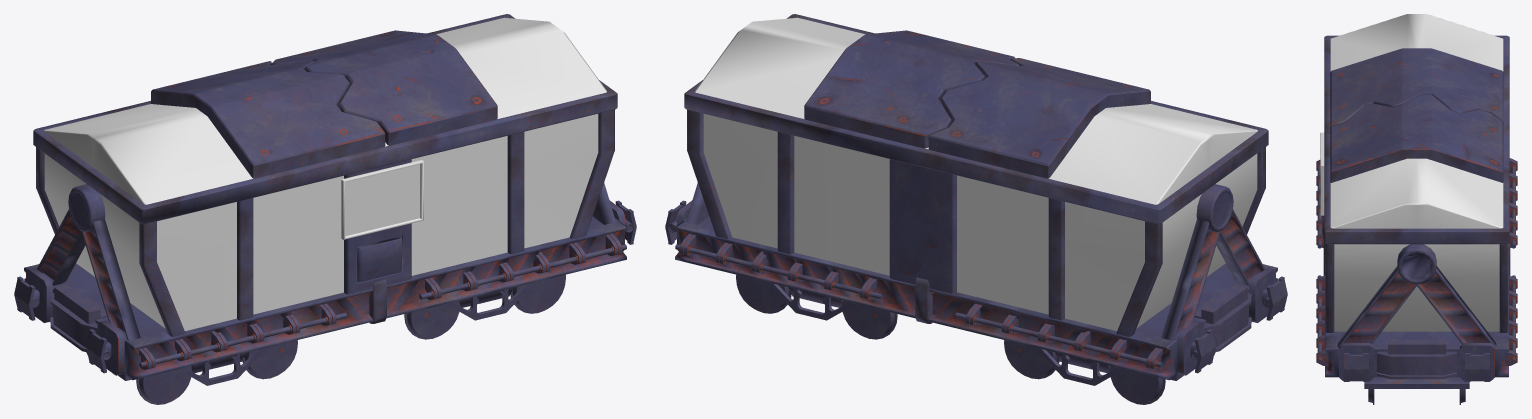
File: Loco_Carriage.fbx
3 views of the same model, side by side, from view 1: azimuth 30°, elevation 25°; view 2: azimuth 150°, elevation 25°; view 3: azimuth 270°, elevation 25° (orthographic). The views are drawn at different scales.
Parts seen in each view (by area): view 1: Cube.078, Cube.077, Loco_Balca_B_low.004, Loco_Deck, Loco_Balca_B_low.003, Loco_Ears_low.002, Loco_Platform.003, Plane, Loco_Door; view 2: Cube.078, Cube.077, Loco_Balca_B_low.004, Loco_Balka_A_low.002, Loco_Balca_B_low.003, Loco_Ears_low.002, Loco_Platform.003, Plane; view 3: Cube.078, Cube.077, Loco_Balca_B_low.004, Loco_Ears_low.002, Loco_Balca_B_low.003, Plane, Loco_Platform.003, Loco_Deck.
Boxes of the visible parts, <box> form: Cube.078: <box>24,14,626,380</box>; Cube.077: <box>151,30,497,165</box>; Loco_Balca_B_low.004: <box>14,200,636,404</box>; Loco_Deck: <box>341,160,423,239</box>; Loco_Balca_B_low.003: <box>36,109,614,336</box>; Loco_Ears_low.002: <box>139,233,622,369</box>; Loco_Platform.003: <box>24,244,626,367</box>; Plane: <box>42,216,618,373</box>; Loco_Door: <box>357,237,402,281</box>; Cube.078: <box>675,14,1277,380</box>; Cube.077: <box>804,30,1150,165</box>; Loco_Balca_B_low.004: <box>665,200,1287,404</box>; Loco_Balka_A_low.002: <box>889,159,956,293</box>; Loco_Balca_B_low.003: <box>687,109,1265,336</box>; Loco_Ears_low.002: <box>679,233,1162,369</box>; Loco_Platform.003: <box>675,244,1277,367</box>; Plane: <box>683,216,1259,373</box>; Cube.078: <box>1323,14,1510,377</box>; Cube.077: <box>1330,48,1503,172</box>; Loco_Balca_B_low.004: <box>1339,339,1494,404</box>; Loco_Ears_low.002: <box>1316,158,1517,366</box>; Loco_Balca_B_low.003: <box>1325,244,1508,332</box>; Plane: <box>1339,331,1494,377</box>; Loco_Platform.003: <box>1317,166,1515,363</box>; Loco_Deck: <box>1320,132,1324,215</box>.
Size of the model in its own units: 881 by 423 by 341.
